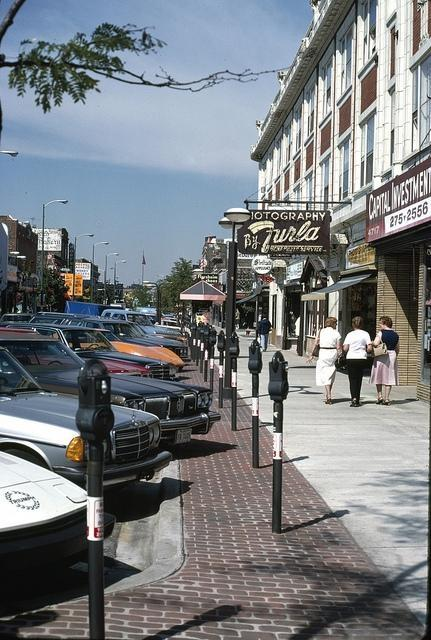car: (0, 328, 224, 449), (0, 344, 171, 498), (0, 449, 92, 591), (2, 324, 176, 382), (68, 316, 186, 373), (85, 326, 176, 370), (125, 322, 190, 361), (100, 310, 178, 338), (153, 326, 184, 338), (170, 318, 178, 327)
